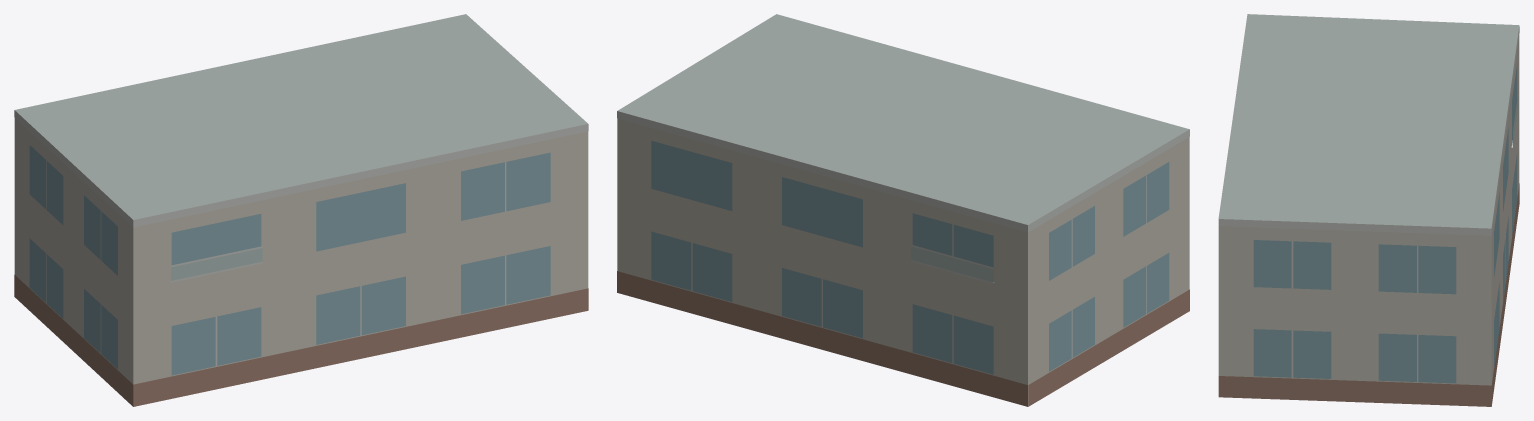
Rendered from survey-upis-32790254.glb.
3 views of the same model, side by side, from view 1: azimuth 30°, elevation 25°; view 2: azimuth 150°, elevation 25°; view 3: azimuth 270°, elevation 25° (orthographic). The views are drawn at different scales.
Visible parts, largest first — view 1: survey-upis-32790254.tmp; view 2: survey-upis-32790254.tmp; view 3: survey-upis-32790254.tmp.
Part boxes in pixels (x1,y1,x2,y2): survey-upis-32790254.tmp: (14,14,588,406); survey-upis-32790254.tmp: (617,14,1189,406); survey-upis-32790254.tmp: (1218,14,1519,406).
Size of the model in its own units: 15.75 by 6.1 by 9.34.
